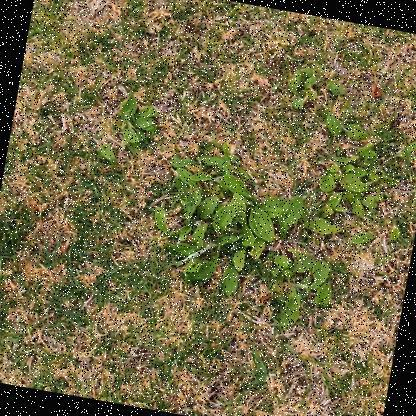Weeds: (138, 85, 415, 347), (97, 89, 164, 171), (284, 64, 348, 117)
